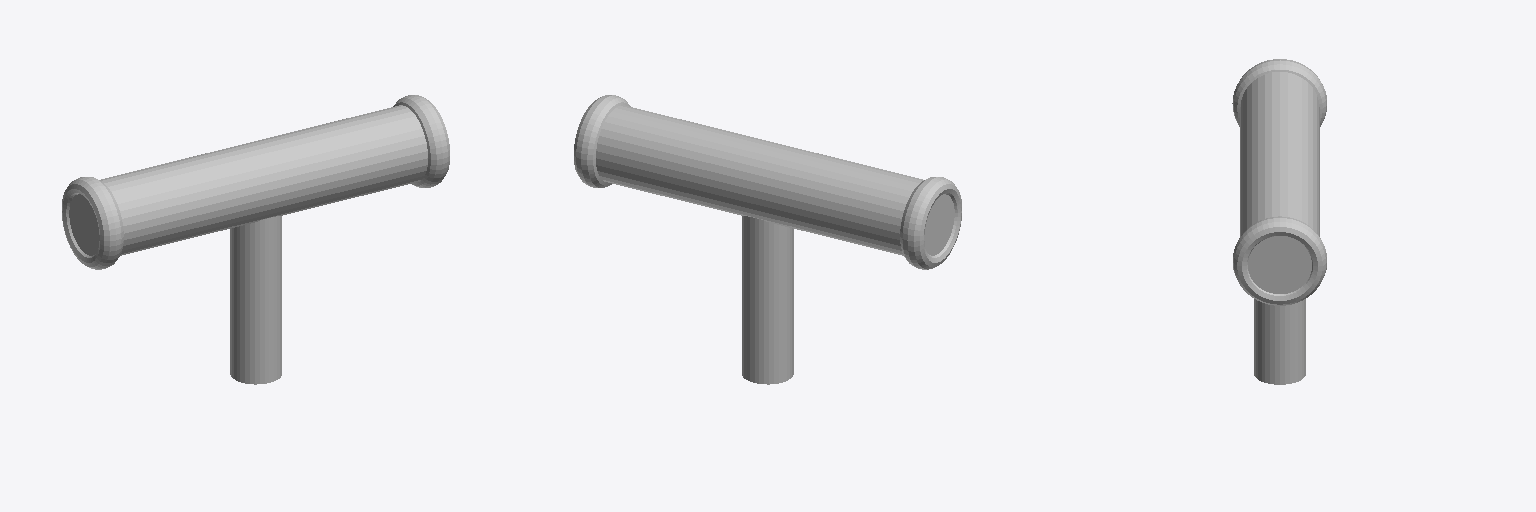
Rendered from rotor.obj.
3 renders of one model, left to right at view 1: azimuth 30°, elevation 25°; view 2: azimuth 150°, elevation 25°; view 3: azimuth 270°, elevation 25°, orthographic.
Parts seen in each view (by area): view 1: Cylinder.001, Cylinder, Torus.001, Torus.002; view 2: Cylinder.001, Cylinder, Torus.001, Torus.002; view 3: Cylinder.001, Cylinder, Torus.002, Torus.001.
Boxes of the visible parts, x1,y1,x2,y2 form: Cylinder.001: [69, 105, 427, 255]; Cylinder: [230, 216, 281, 384]; Torus.001: [62, 177, 123, 269]; Torus.002: [393, 95, 449, 187]; Cylinder.001: [596, 105, 954, 255]; Cylinder: [742, 216, 793, 384]; Torus.001: [900, 177, 961, 269]; Torus.002: [574, 95, 630, 187]; Cylinder.001: [1240, 72, 1319, 293]; Cylinder: [1254, 299, 1305, 384]; Torus.002: [1233, 216, 1326, 305]; Torus.001: [1232, 59, 1326, 126].
Size of the model in its own units: 1.13 by 0.7267 by 0.2661.